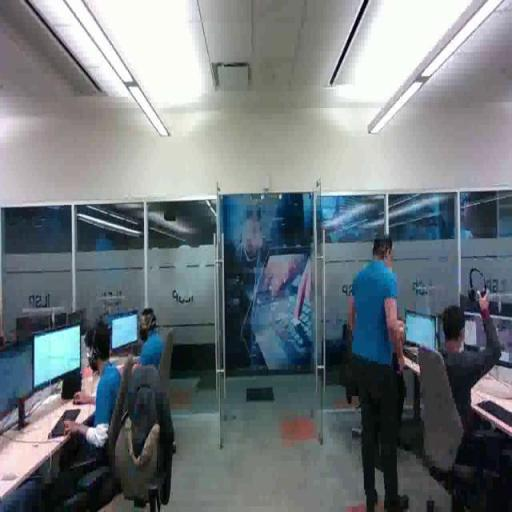person: (347, 233, 412, 512), (432, 291, 512, 472), (54, 320, 131, 466), (117, 305, 176, 400)
